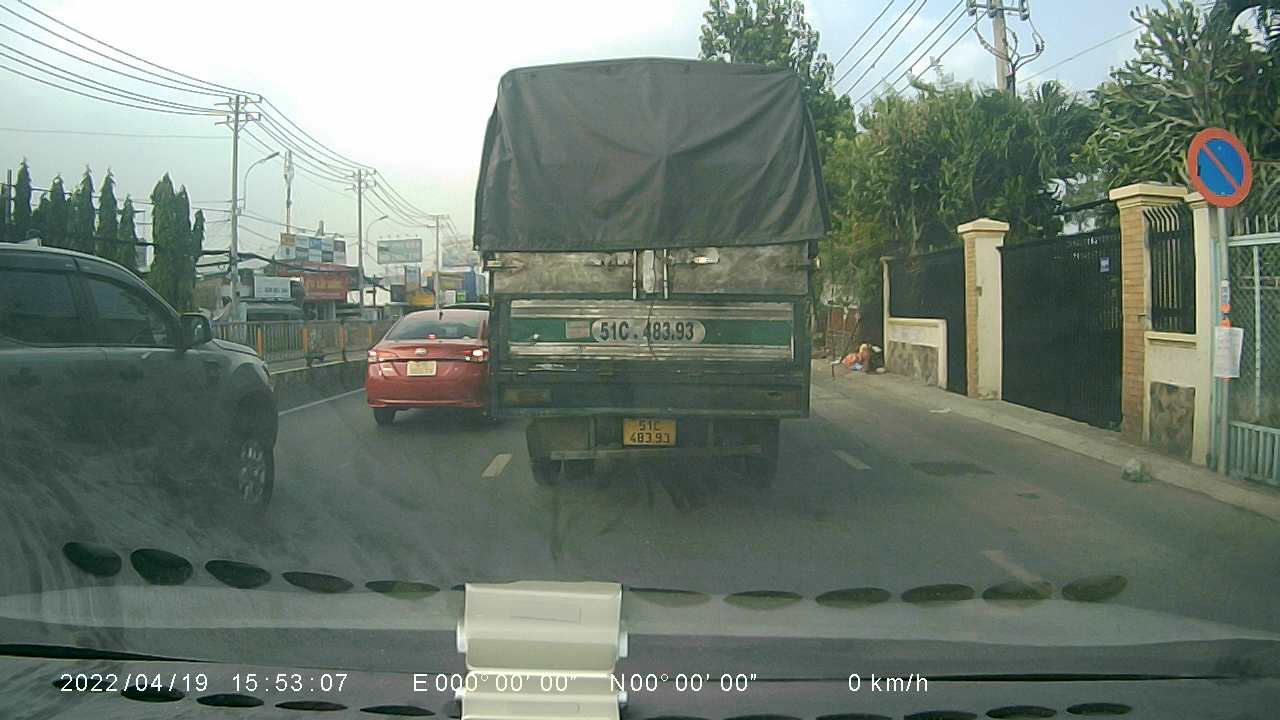Cam do xe: (1181, 121, 1253, 207)
